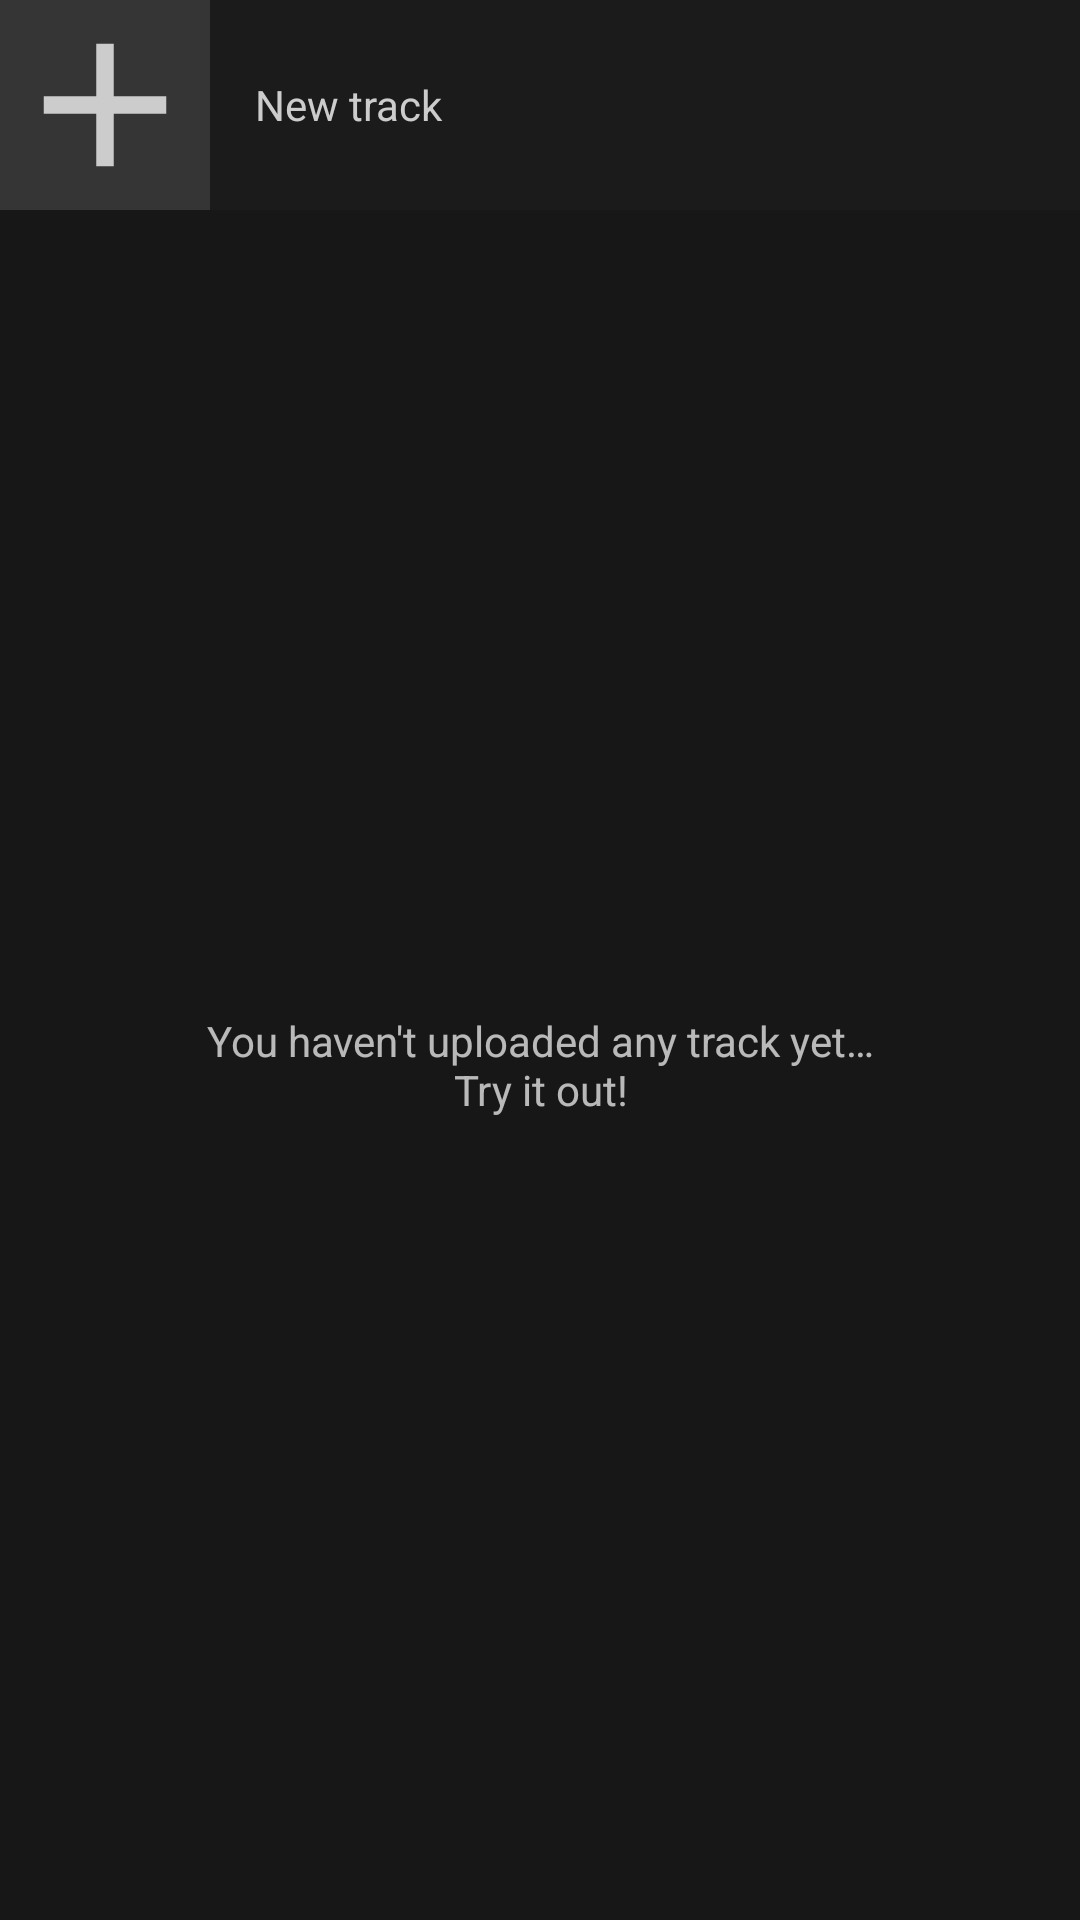

Icons on this 1080px×1920px Android screen, each with its box as {"x1": x1, "y1": y1, "x2": x2, "y2": y2}:
add: {"x1": 0, "y1": 0, "x2": 210, "y2": 210}
